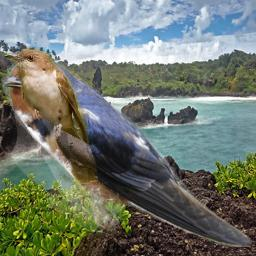Cuckoo: (2, 46, 98, 184)
Swallow: (1, 56, 252, 247)
